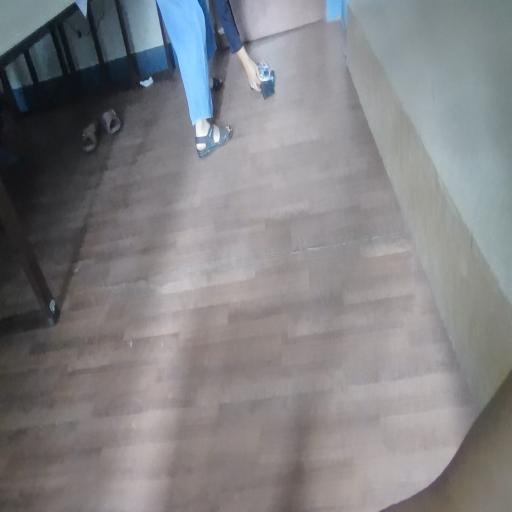car: (259, 58, 286, 100)
